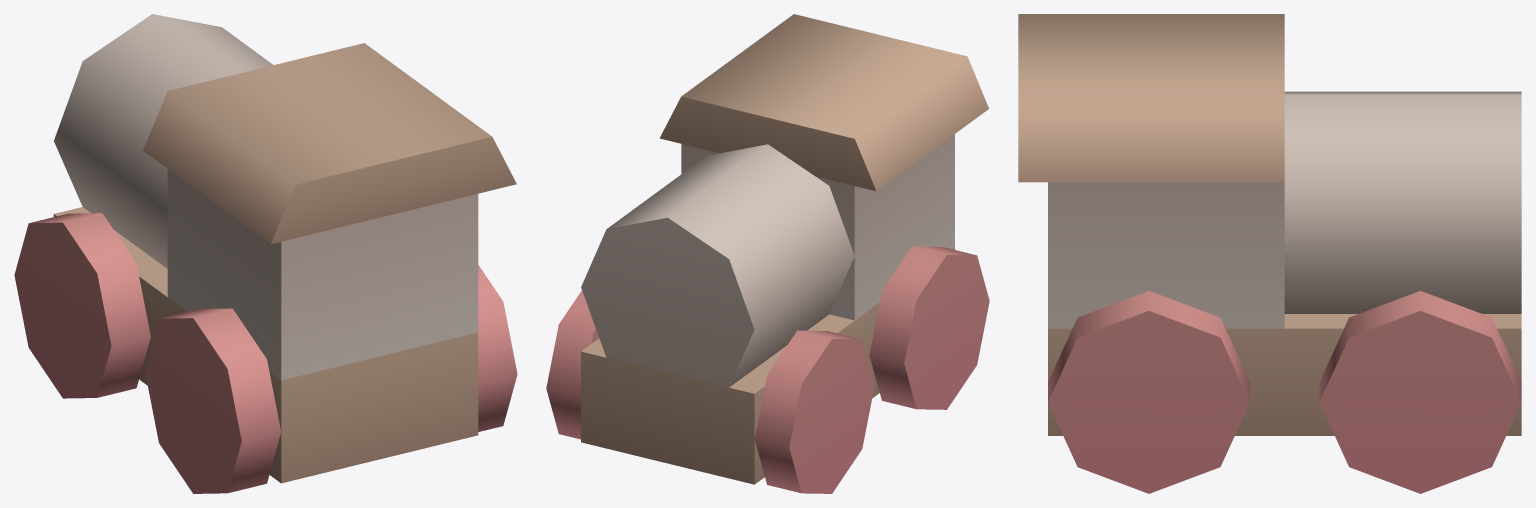
Rendered from toy-train-a_0.glb.
The picture shows the model from 3 angles, left to right: view 1: azimuth 30°, elevation 25°; view 2: azimuth 150°, elevation 25°; view 3: azimuth 270°, elevation 25°; orthographic projection. The views are drawn at different scales.
Parts seen in each view (by area): view 1: toy-train-a; view 2: toy-train-a; view 3: toy-train-a.
Part boxes in pixels (left/top/right/bottom): toy-train-a: left=14, top=14, right=517, bottom=493; toy-train-a: left=546, top=14, right=989, bottom=493; toy-train-a: left=1018, top=14, right=1521, bottom=493.
Size of the model in its own units: 0.07 by 0.0838 by 0.1062.
